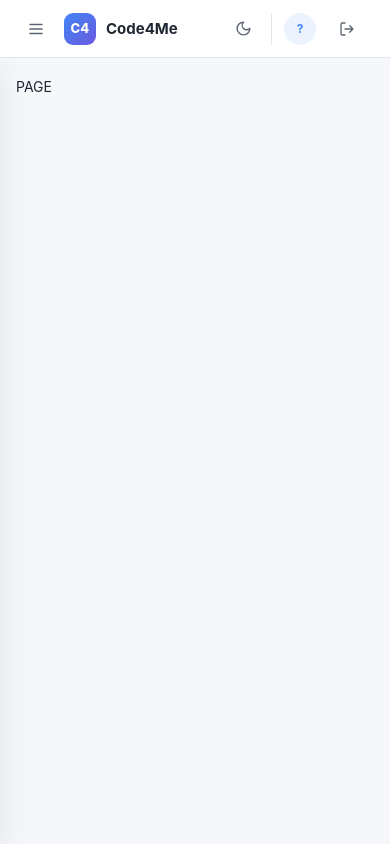
Test: the mobile menu button toggles the navigation
Click the button named "Open navigation". click: (36, 28)
box: [20,12,52,44]
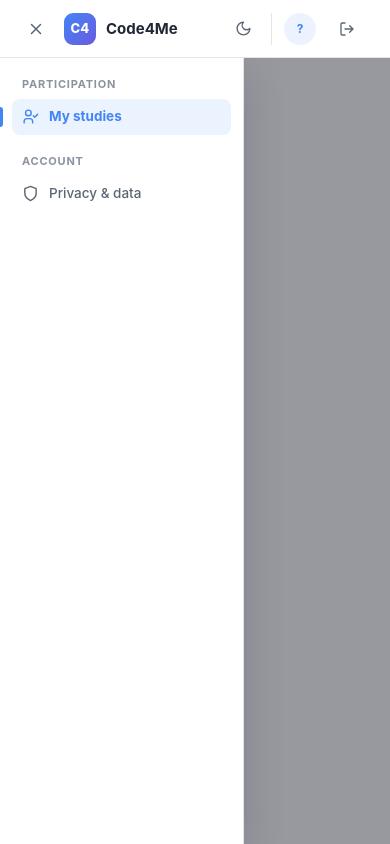
expect the button named "Close navigation" is shown: met, box [20,12,52,44]
